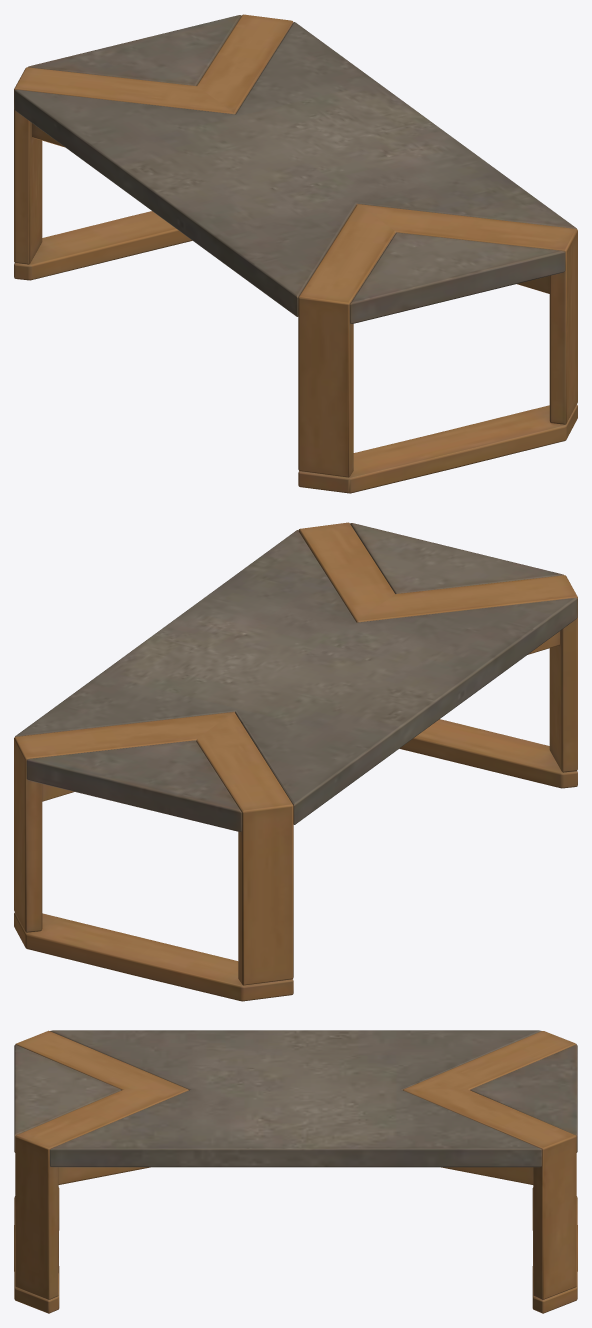
Rendered from modern_coffee_table_01.glb.
3 views of the same model, one above another, from view 1: azimuth 30°, elevation 25°; view 2: azimuth 150°, elevation 25°; view 3: azimuth 270°, elevation 25° (orthographic). The views are drawn at different scales.
Visible parts, largest first — view 1: modern_coffee_table_01; view 2: modern_coffee_table_01; view 3: modern_coffee_table_01.
Part boxes in pixels (x1,y1,x2,y2): modern_coffee_table_01: [14, 14, 577, 493]; modern_coffee_table_01: [14, 522, 577, 1001]; modern_coffee_table_01: [14, 1030, 577, 1313].
Bounding box in the file's own units: 0.5999 × 0.39 × 1.2.
1 material, 1 textured.
